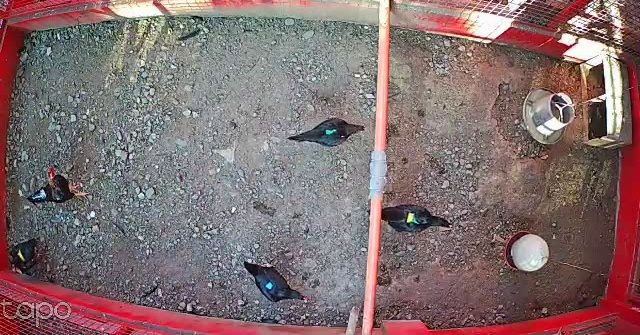Chicken: (364, 195, 453, 237), (242, 258, 312, 305), (282, 118, 367, 147), (8, 233, 45, 270)
Rooster: (24, 167, 86, 210)
Saddle_Color_Blue: (265, 281, 273, 290)
Saddle_Color_Yellow: (17, 251, 25, 262)
Saddle_Color_YellowGreen: (406, 214, 420, 224)
